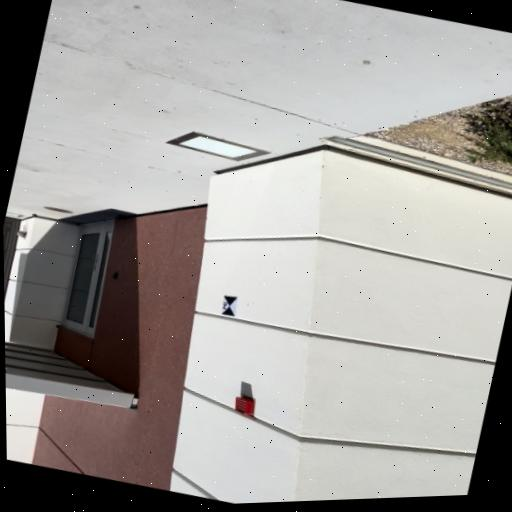target2: (222, 296, 239, 317)
